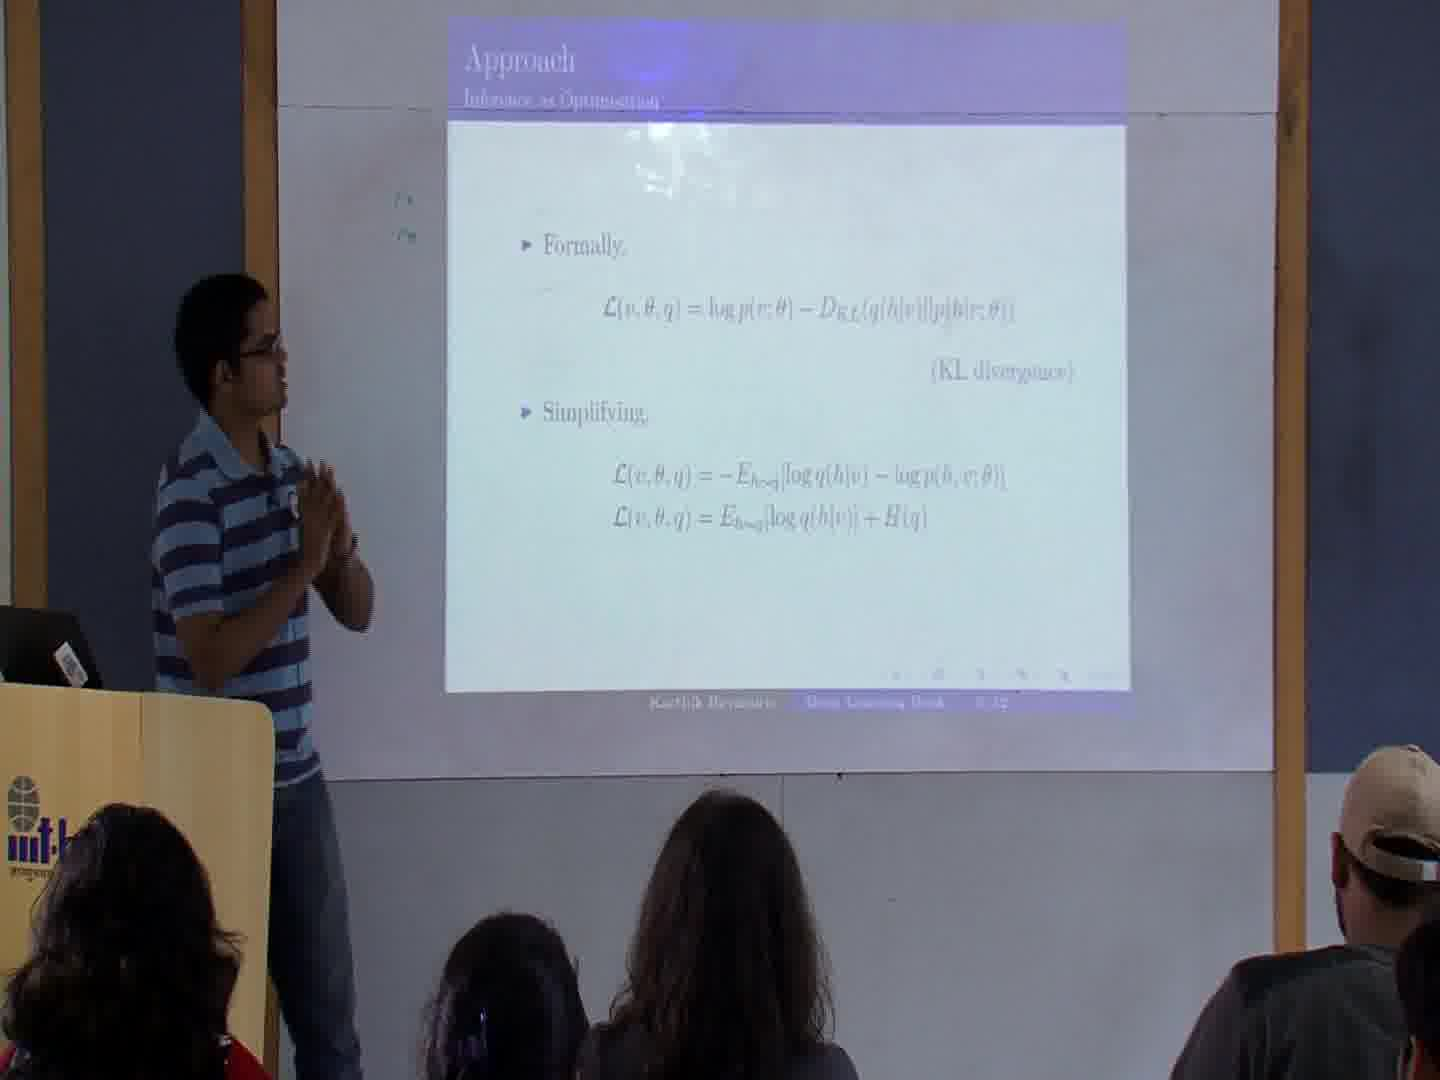eq: (598, 287, 1022, 332), (604, 457, 1008, 493), (611, 501, 935, 535)
